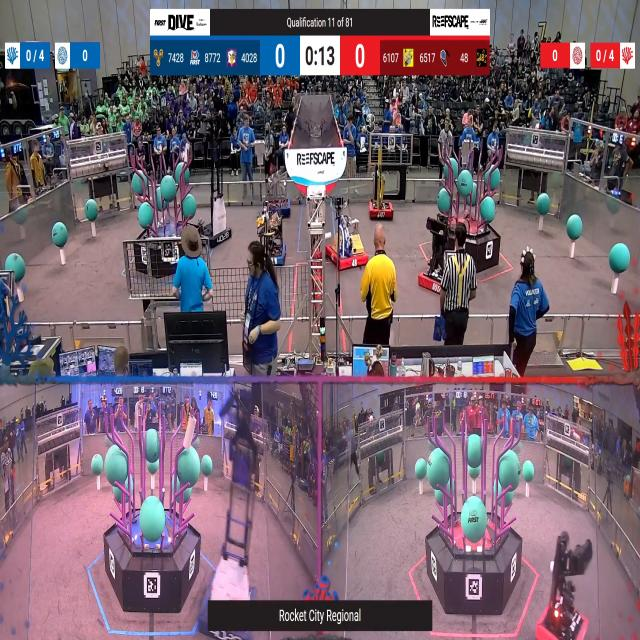scoreboard: (151, 37, 490, 75)
